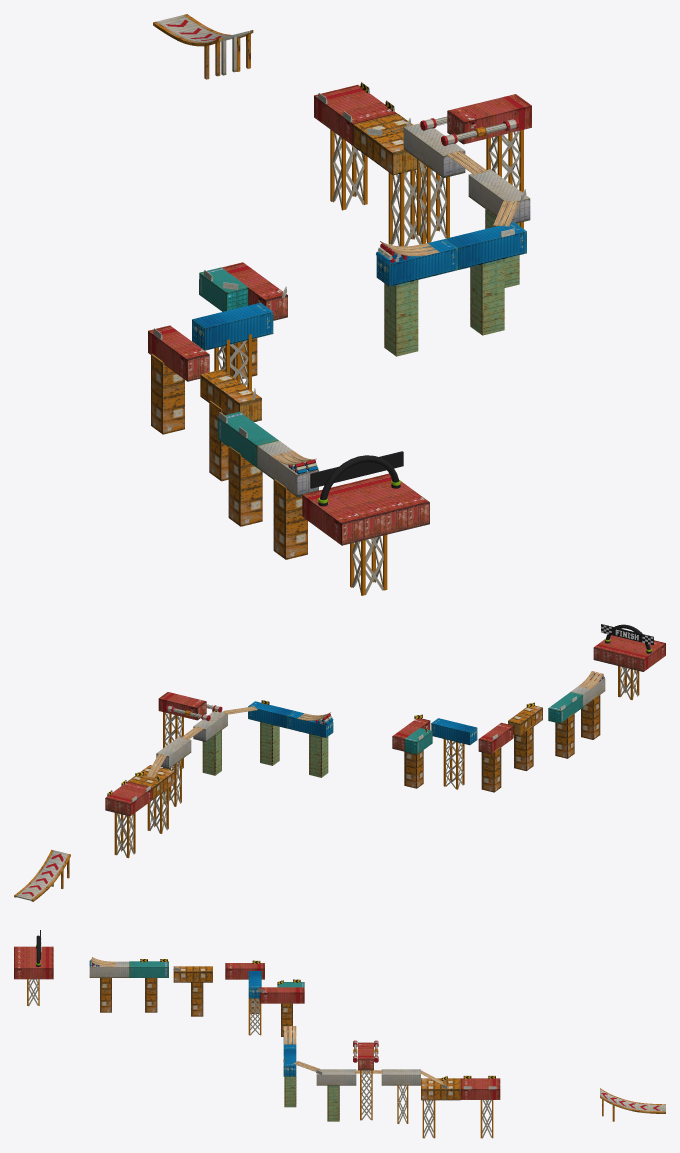
The model's file is 3_Parkour.fbx.
The picture shows the model from 3 angles, top to bottom: view 1: azimuth 30°, elevation 25°; view 2: azimuth 150°, elevation 25°; view 3: azimuth 270°, elevation 25°; orthographic projection. The views are drawn at different scales.
Visible parts, largest first — view 1: stcontainerblue__2_, RampFast, stcontainerred__6_, stcontainergreentwo__7_, stcontainergreentwo__5_, stcontainerblue, stcontainerorange__4_, stcontainerorange__3_, stcontainerorange__6_, stcontainerblue__1_, stcontainerred__8_, stcontainerred__9_ (+21 smaller); view 2: RampFast, stcontainerblue__2_, stcontainerred__6_, stcontainerorange__6_, stcontainergreentwo__7_, stcontainergreentwo__5_, orangescaffold__2_, stcontainerblue, stcontainerorange__4_, stcontainerorange__5_, stcontainergreentwo__4_, stcontainerorange__3_ (+20 smaller); view 3: RampFast, stcontainerred__7_, stcontainerorange__1_, stcontainerwhitetwo, stcontainerwhitetwo__1_, stcontainerred__4_, stcontainergreen, stcontainerred__12_, stcontainerorange__2_, stcontainerred__8_, stcontainerwhitetwo__2_, stcontainergreentwo__4_ (+10 smaller).
Boxes of the visible parts, x1,y1,x2,y2 form: stcontainerblue__2_: [192, 302, 273, 350]; RampFast: [153, 14, 253, 79]; stcontainerred__6_: [447, 94, 531, 144]; stcontainergreentwo__7_: [384, 280, 418, 356]; stcontainergreentwo__5_: [470, 259, 504, 335]; stcontainerblue: [446, 222, 526, 269]; stcontainerorange__4_: [228, 446, 262, 526]; stcontainerorange__3_: [273, 479, 307, 559]; stcontainerorange__6_: [151, 354, 184, 434]; stcontainerblue__1_: [376, 239, 457, 286]; stcontainerred__8_: [148, 325, 209, 381]; stcontainerred__9_: [302, 489, 363, 545]; RampFast: [14, 849, 70, 901]; stcontainerblue__2_: [431, 718, 477, 745]; stcontainerred__6_: [158, 692, 206, 720]; stcontainerorange__6_: [481, 746, 501, 792]; stcontainergreentwo__7_: [309, 734, 328, 777]; stcontainergreentwo__5_: [260, 722, 279, 765]; orangescaffold__2_: [114, 813, 135, 858]; stcontainerblue: [248, 701, 293, 728]; stcontainerorange__4_: [555, 713, 574, 758]; stcontainerorange__5_: [514, 725, 533, 770]; stcontainergreentwo__4_: [202, 730, 221, 775]; stcontainerorange__3_: [581, 694, 600, 739]; RampFast: [600, 1088, 665, 1121]; stcontainerred__7_: [259, 987, 304, 1003]; stcontainerorange__1_: [421, 1083, 460, 1100]; stcontainerwhitetwo: [381, 1069, 420, 1085]; stcontainerwhitetwo__1_: [316, 1069, 356, 1085]; stcontainerred__4_: [460, 1083, 500, 1099]; stcontainergreen: [129, 961, 168, 977]; stcontainerred__12_: [14, 963, 53, 979]; stcontainerorange__2_: [173, 966, 212, 982]; stcontainerred__8_: [225, 963, 264, 979]; stcontainerwhitetwo__2_: [89, 961, 129, 977]; stcontainergreentwo__4_: [327, 1085, 339, 1121].
Bounding box in the file's own units: 13066 × 4250 × 27390.
